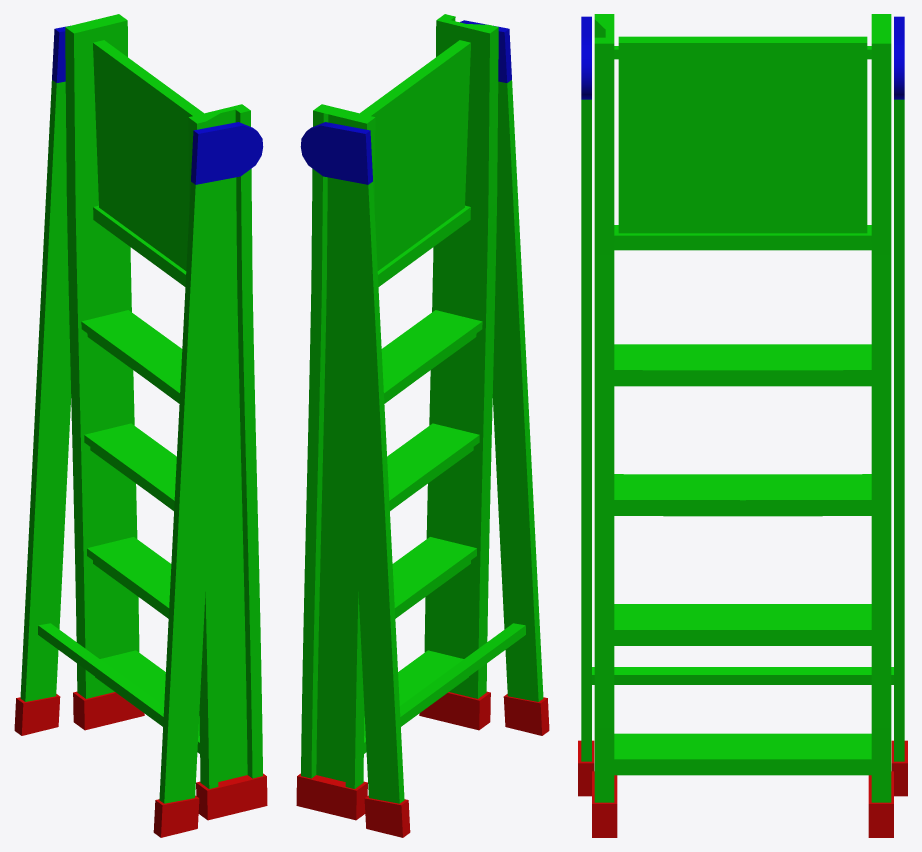
The model's file is Portable Staircase.fbx.
3 views of the same model, side by side, from view 1: azimuth 30°, elevation 25°; view 2: azimuth 150°, elevation 25°; view 3: azimuth 270°, elevation 25° (orthographic). The views are drawn at different scales.
Visible parts, largest first — view 1: Cube.004; view 2: Cube.004; view 3: Cube.004.
Boxes of the visible parts, bbox=[...] form: Cube.004: bbox=[14, 14, 267, 837]; Cube.004: bbox=[296, 14, 549, 837]; Cube.004: bbox=[578, 14, 907, 837].
Size of the model in its own units: 23.92 by 142 by 53.85.
